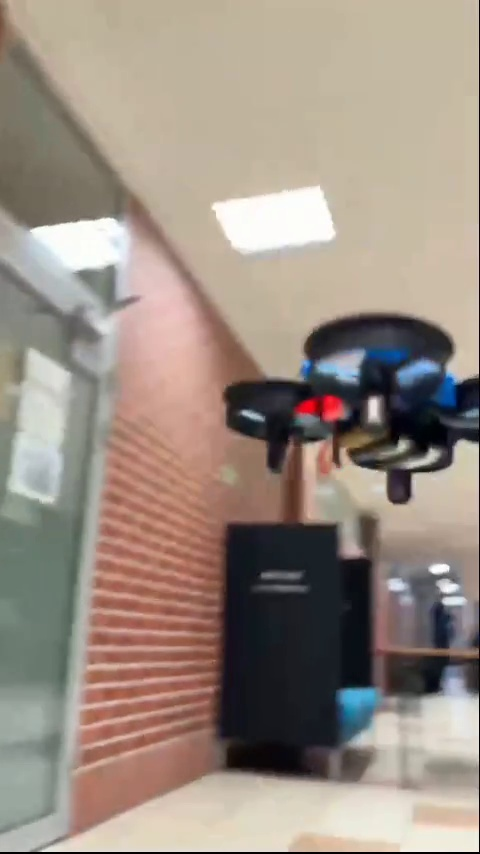drone: (220, 317, 480, 508)
